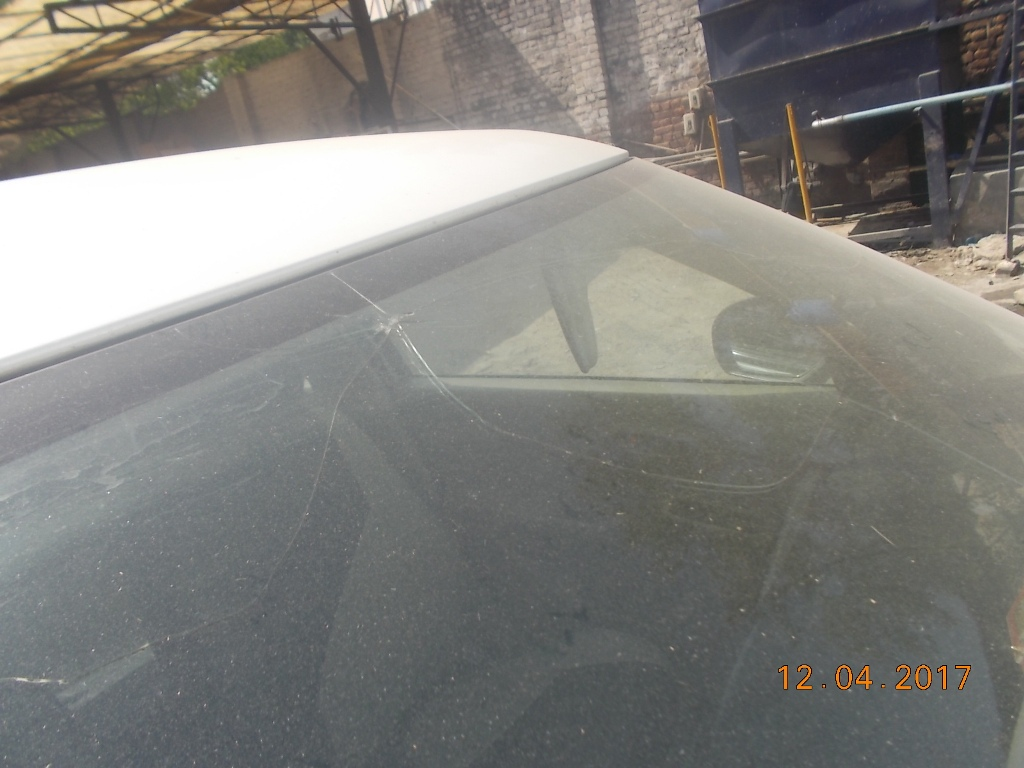Shatter: (353, 294, 423, 369)
